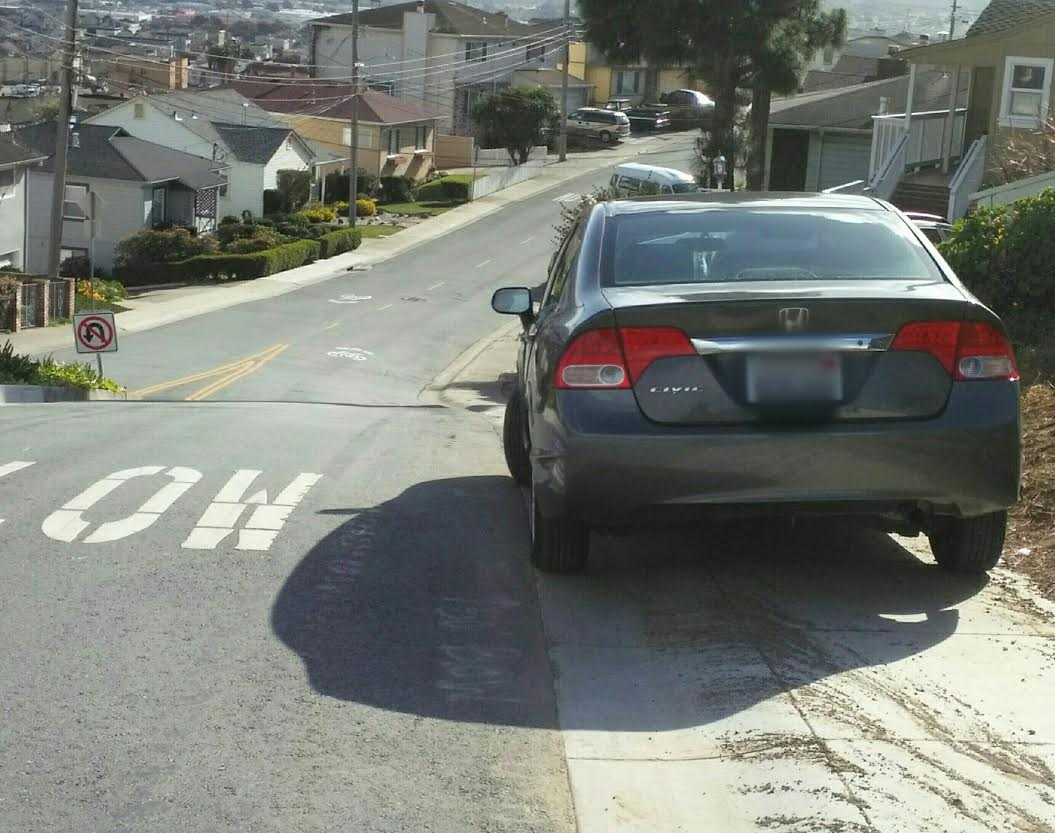Car: (494, 178, 1031, 590)
